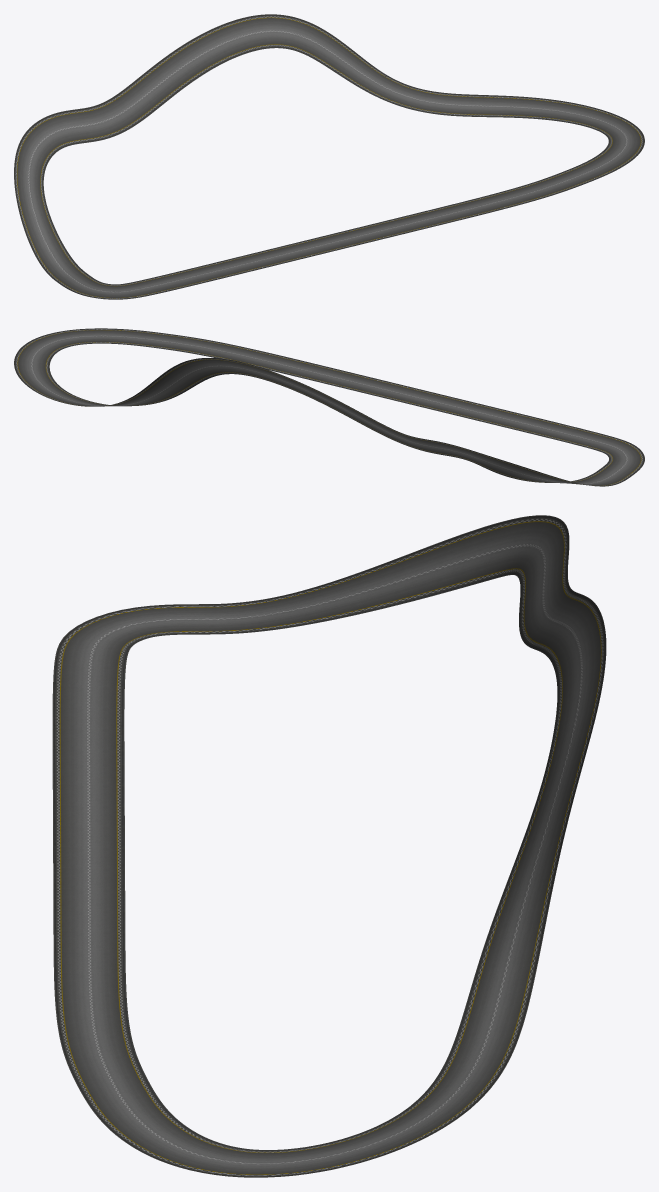
The model's file is courseModel.fbx.
3 views of the same model, one above another, from view 1: azimuth 30°, elevation 25°; view 2: azimuth 150°, elevation 25°; view 3: azimuth 270°, elevation 25° (orthographic). The views are drawn at different scales.
Parts seen in each view (by area): view 1: Road.001; view 2: Road.001; view 3: Road.001.
Boxes of the visible parts, <box> form: Road.001: <box>14,14,644,299</box>; Road.001: <box>14,328,644,486</box>; Road.001: <box>52,515,606,1177</box>.
Size of the model in its own units: 4770 by 927 by 1942.
